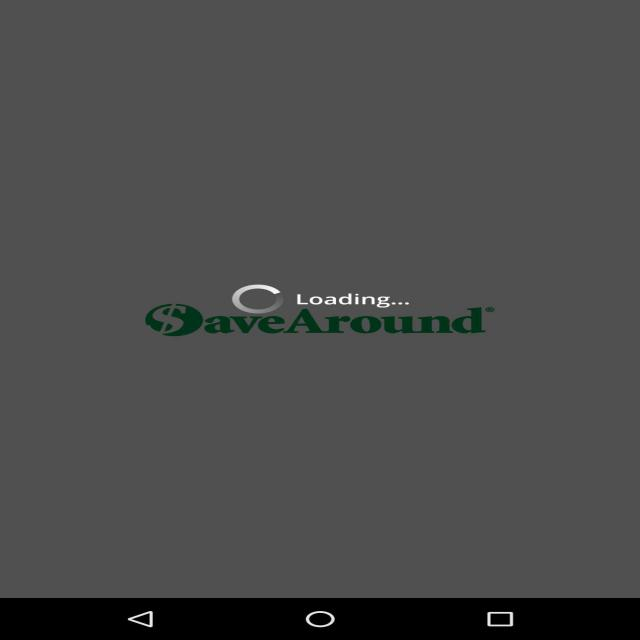text: (104, 232, 640, 384)
